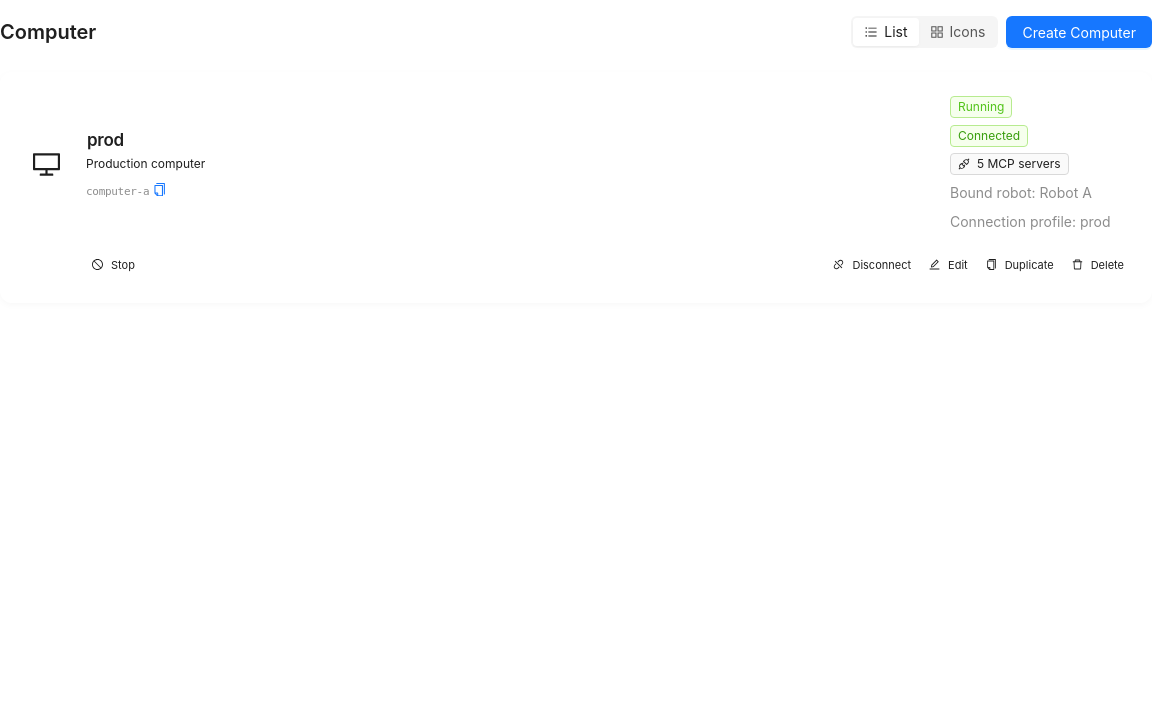
Scenario: Computer › creates a Computer from the list page
This screenshot has width=1152, height=720.
Click the button "Create Computer" at (1079, 32), box [1006,16,1151,48]
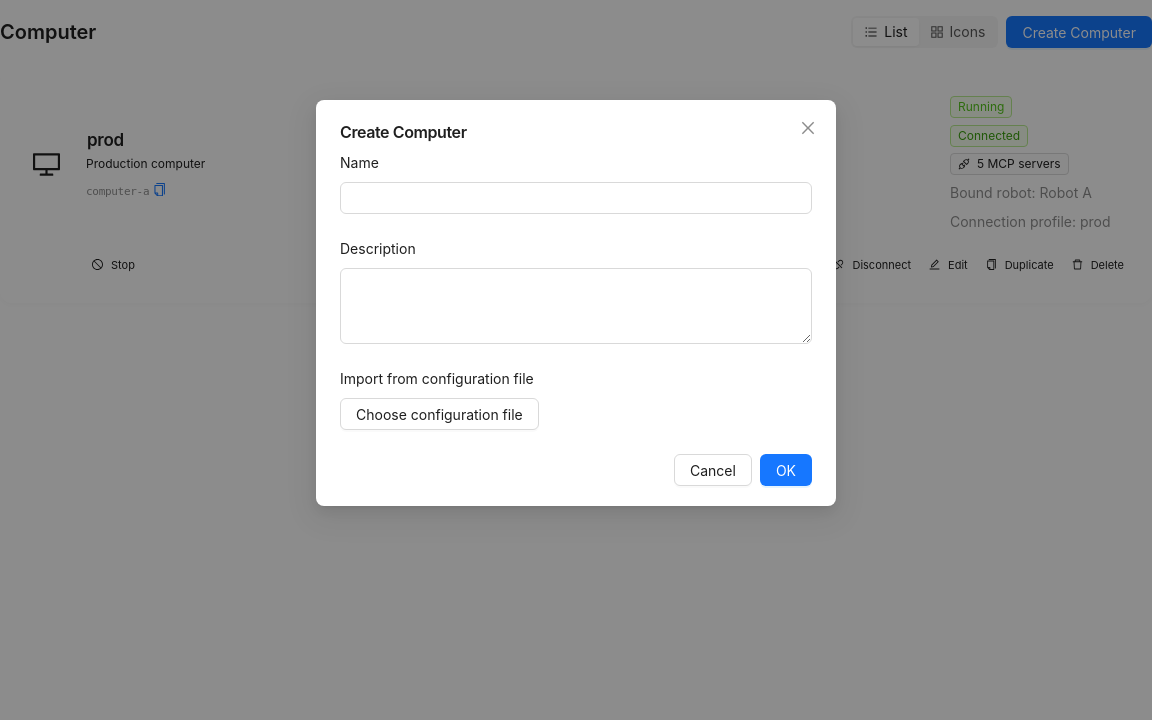
Type "New Computer" into the field labelled "Name" at (576, 198), box [340,182,812,214]
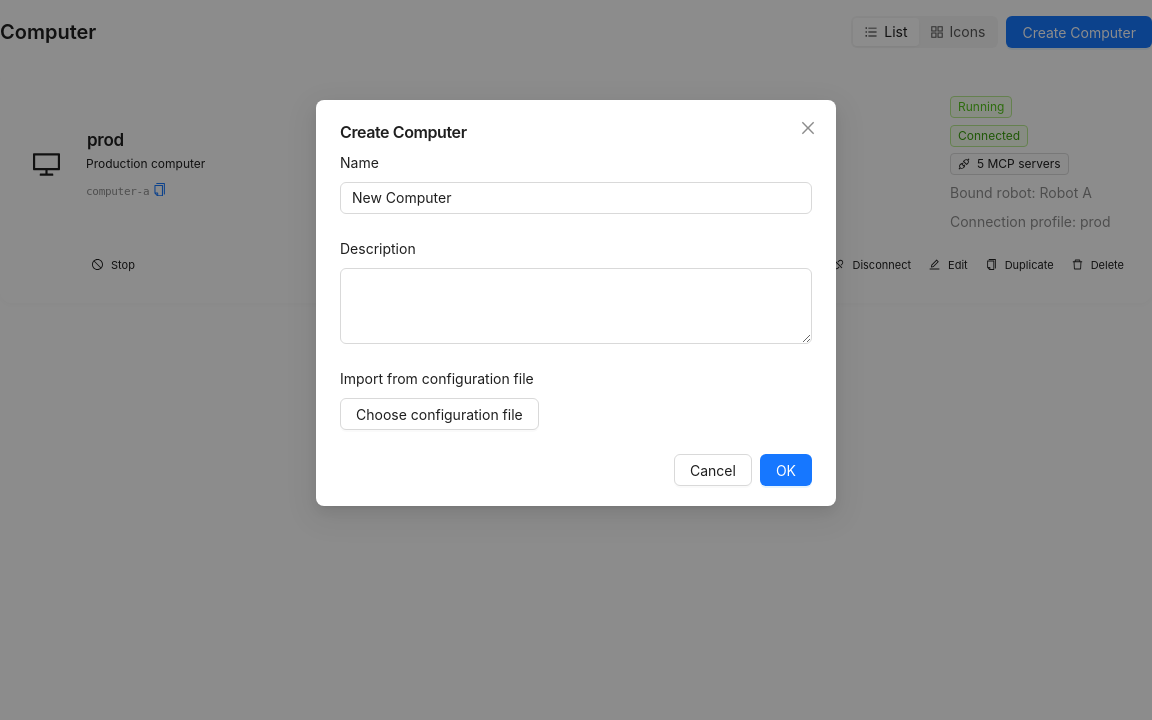
Type "New description" into the text box labelled "Description" at (576, 306), box [340,268,812,344]
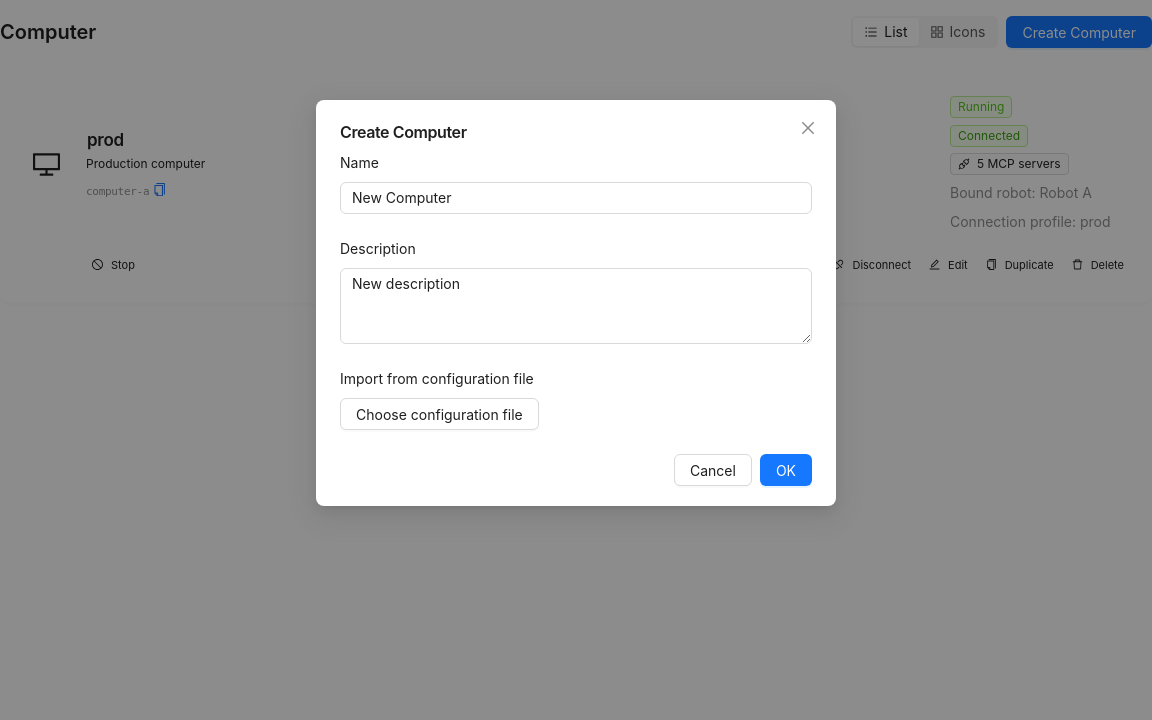
Click the button "OK" at (786, 470), box [760,454,812,486]
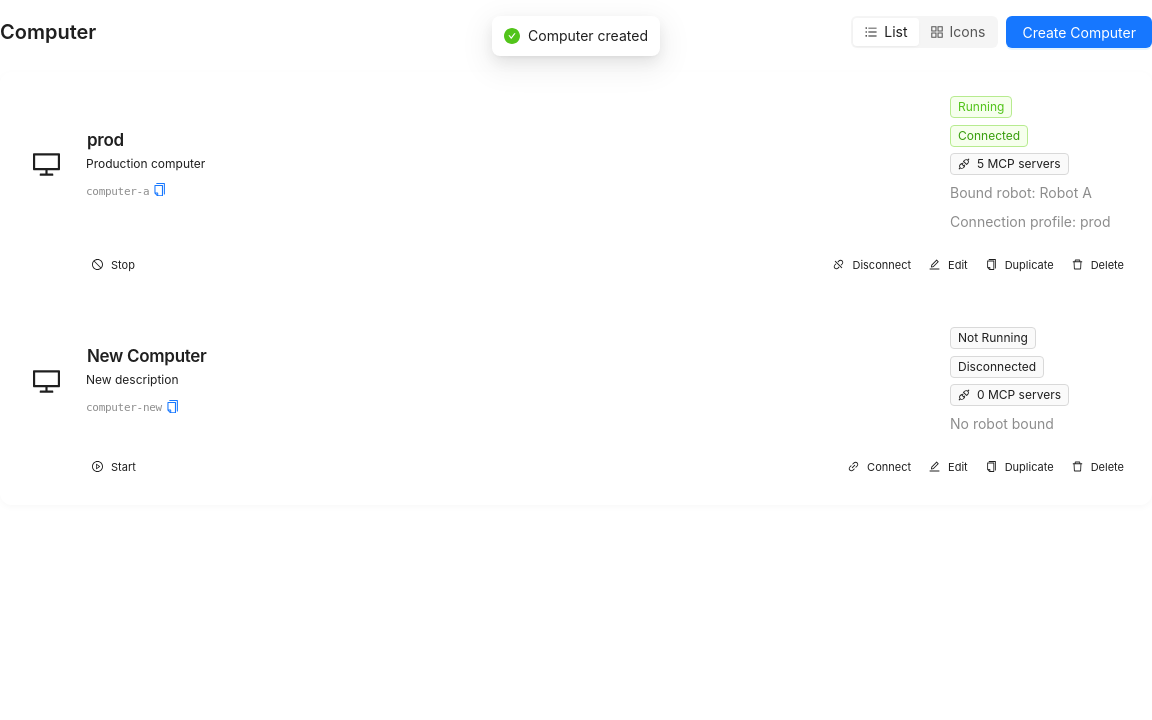
Expected: the text "New Computer" is shown, [87,346,206,366]
